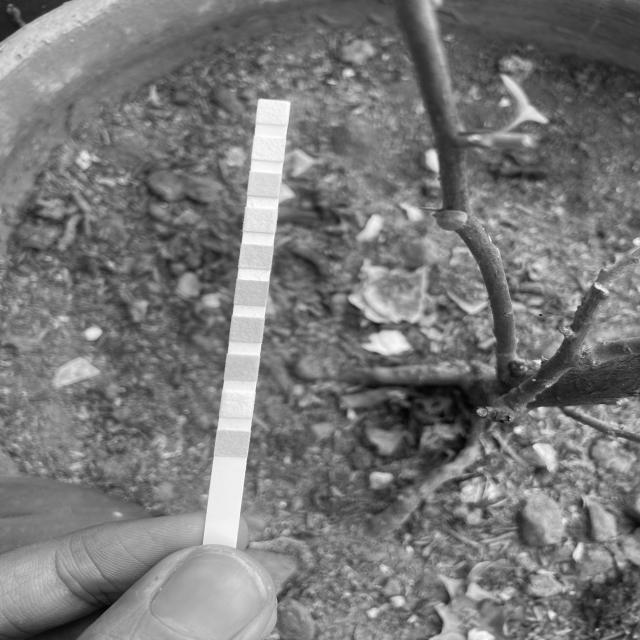Bilirubin: (223, 392, 250, 416)
Blood: (237, 282, 265, 304)
Glucose: (217, 432, 247, 456)
Ketone: (228, 356, 258, 379)
Leukocytes: (259, 102, 288, 122)
Nitrite: (254, 139, 284, 159)
Protein: (247, 210, 276, 231)
SpGravity: (233, 317, 262, 342)
Urobilinogen: (250, 174, 278, 195)
background: (0, 0, 640, 640)
pH: (242, 246, 271, 268)
strip: (204, 99, 290, 542)
